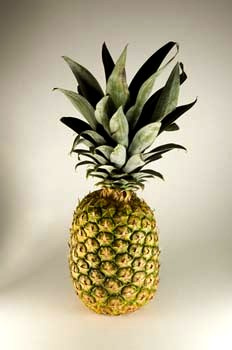pineapple: (52, 42, 199, 316)
